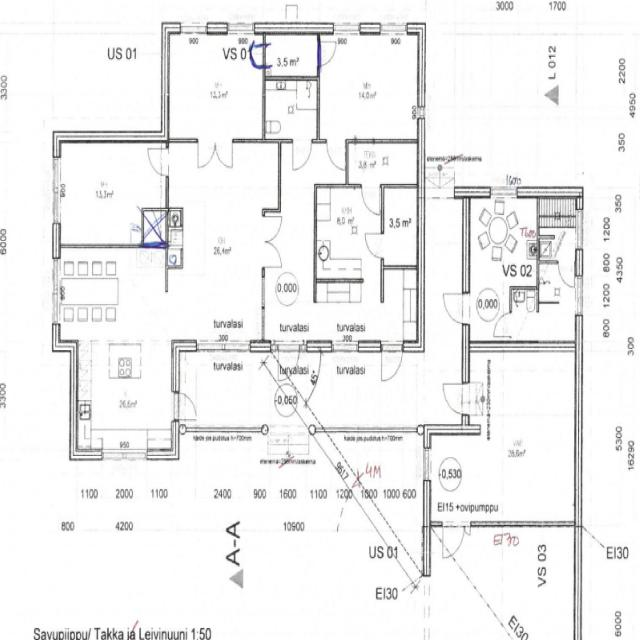door: (440, 384, 470, 414), (440, 294, 470, 324), (278, 341, 299, 383), (382, 341, 402, 383), (443, 521, 464, 559), (171, 393, 198, 420), (362, 182, 379, 214), (327, 138, 345, 168), (293, 138, 310, 169), (262, 216, 282, 242), (149, 149, 169, 175), (198, 138, 215, 168), (215, 138, 232, 168), (262, 242, 282, 267), (364, 234, 384, 258), (558, 260, 574, 286), (248, 45, 266, 67), (494, 314, 511, 336), (464, 521, 470, 537)
